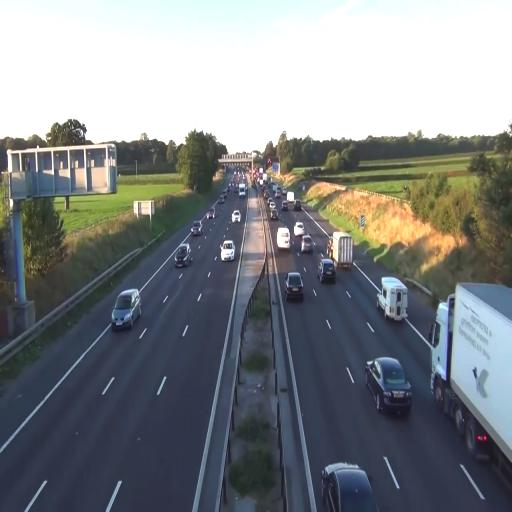vehicle: (429, 282, 512, 490), (428, 284, 511, 490), (321, 461, 379, 512), (365, 356, 413, 416), (321, 463, 377, 511), (365, 357, 411, 415), (110, 287, 142, 332), (377, 276, 408, 322), (376, 277, 407, 320), (110, 289, 140, 329), (330, 230, 354, 274), (326, 232, 352, 268), (285, 272, 304, 302), (284, 273, 302, 301), (319, 257, 336, 284), (174, 244, 192, 268), (317, 259, 335, 283), (174, 244, 191, 268), (219, 239, 236, 262), (277, 226, 290, 252), (277, 228, 291, 251), (220, 241, 234, 261), (301, 236, 314, 256), (300, 235, 312, 253), (190, 221, 201, 236), (293, 222, 304, 236), (191, 222, 201, 236), (238, 182, 246, 198), (232, 209, 240, 223), (231, 210, 239, 223), (293, 200, 301, 211), (286, 191, 293, 203), (207, 208, 214, 219), (270, 209, 277, 220), (281, 201, 287, 211), (274, 190, 280, 199), (217, 195, 223, 204), (268, 202, 275, 209), (258, 178, 264, 186), (267, 197, 272, 206), (261, 173, 266, 181), (282, 188, 287, 196), (263, 190, 267, 199), (222, 190, 226, 199), (272, 185, 276, 193), (261, 186, 265, 194), (233, 187, 237, 193), (226, 185, 229, 191)
